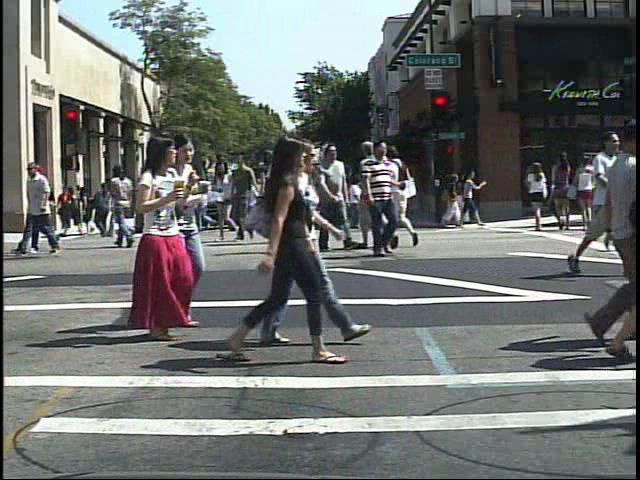person: (236, 132, 349, 368), (115, 130, 195, 342), (268, 134, 333, 349), (586, 107, 637, 355), (564, 126, 623, 278), (167, 134, 210, 330), (361, 138, 409, 260), (328, 139, 373, 257), (361, 136, 403, 253), (266, 140, 304, 258), (262, 144, 299, 248), (142, 157, 182, 252), (389, 140, 423, 251), (295, 147, 327, 248), (107, 160, 143, 248), (525, 154, 555, 235), (260, 165, 281, 234), (60, 183, 80, 233)
